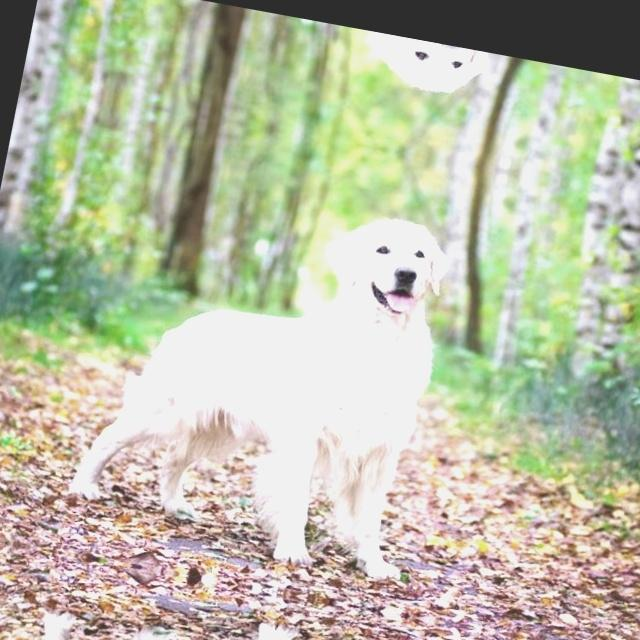dog: (67, 169, 495, 590), (162, 0, 530, 107), (39, 580, 414, 640)
